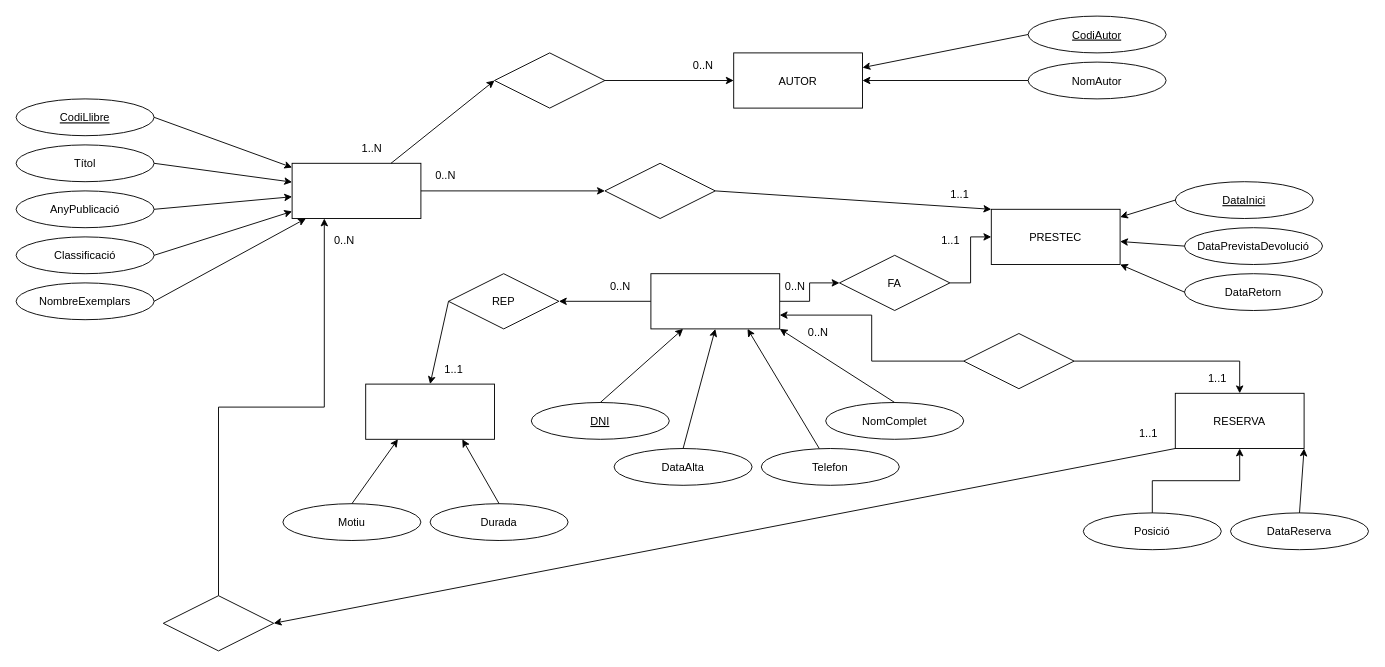
This 1385x667 diagram has some shape labels left out. Here are the shapes that lost their labels. From the top down, the box of each, then its label:
(494, 52, 605, 108): ESCRIU
(291, 162, 421, 218): LLIBRE
(604, 162, 715, 218): INCLOU
(650, 273, 780, 329): USUARI
(963, 333, 1074, 389): FA_RESERVA
(365, 383, 494, 439): SANCIO
(162, 595, 274, 651): DE_LLIBRE
